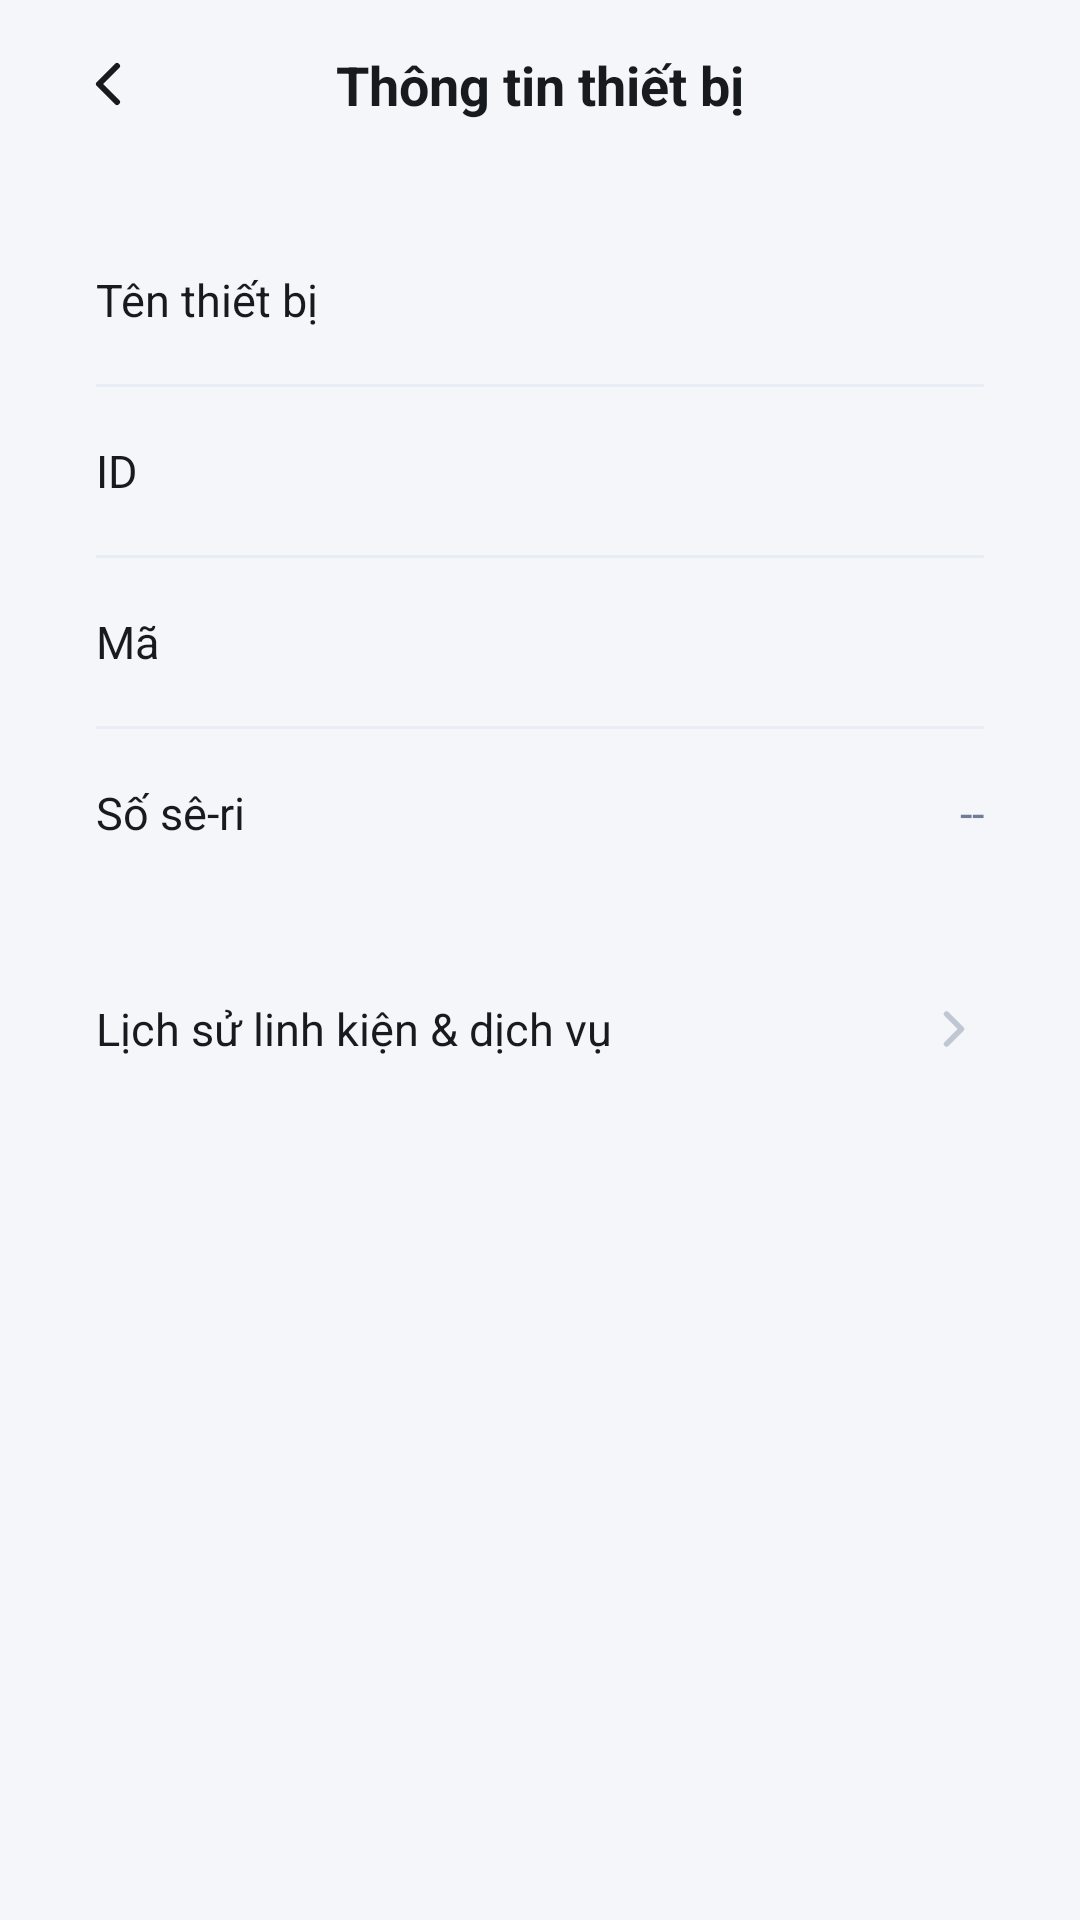

Icon bounding boxes for this 1080×1920 phone screenshot, format detection(x1, y1, x2, y2):
arrow back: detection(96, 63, 120, 105)
chevron right: detection(944, 1011, 964, 1047)
